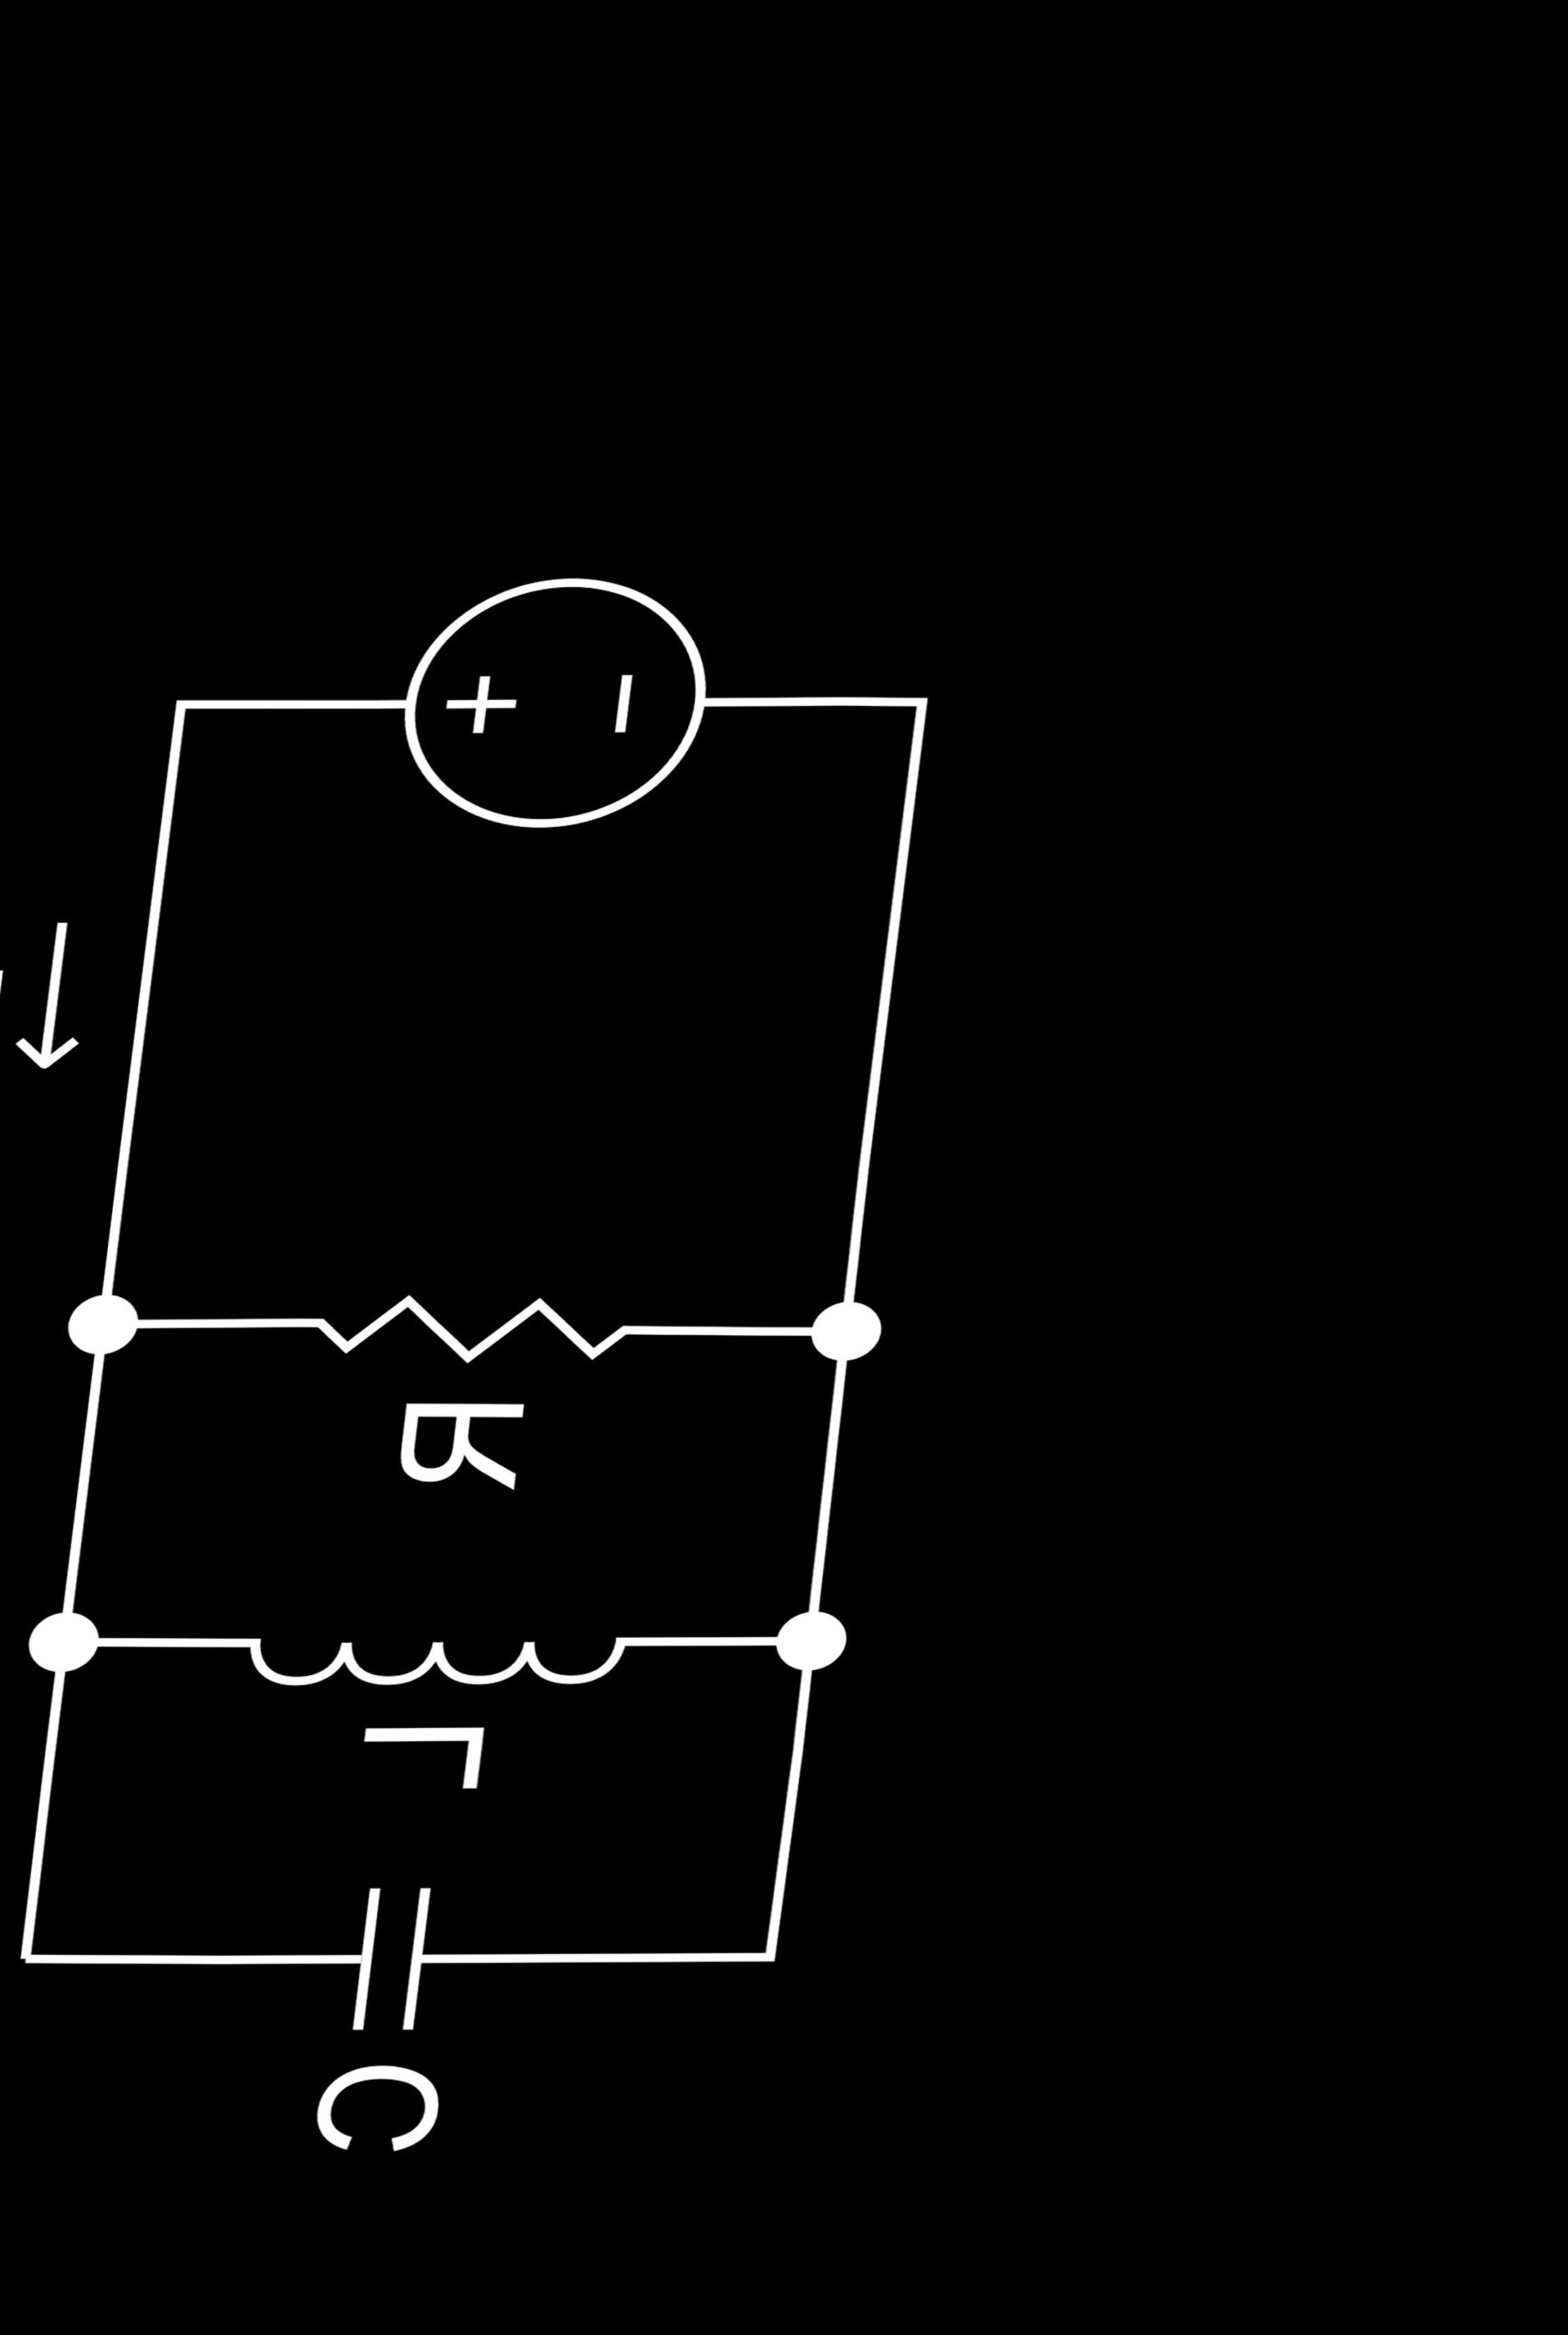Battery: (341, 512, 770, 887)
